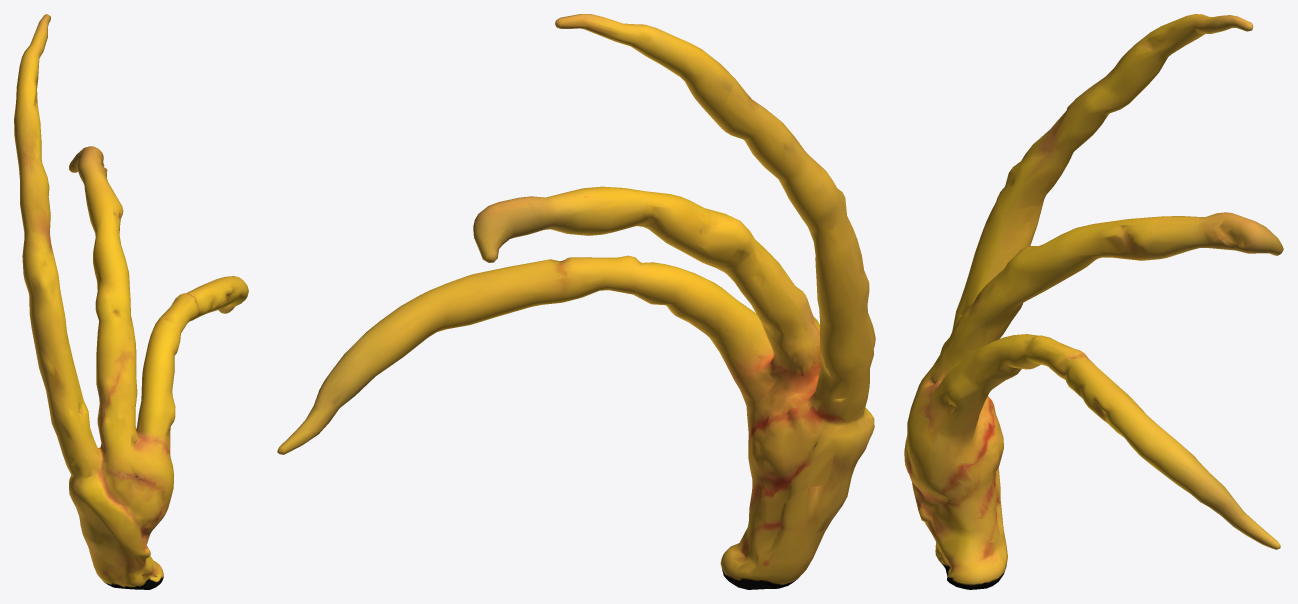
File: TheNoos_yellowHand.glb
3 renders of one model, left to right at view 1: azimuth 30°, elevation 25°; view 2: azimuth 150°, elevation 25°; view 3: azimuth 270°, elevation 25°, orthographic. The views are drawn at different scales.
Visible parts, largest first — view 1: Meshy_AI_Golden_Hand_of_the_Fo_0501082319_texture; view 2: Meshy_AI_Golden_Hand_of_the_Fo_0501082319_texture; view 3: Meshy_AI_Golden_Hand_of_the_Fo_0501082319_texture.
Part boxes in pixels (bbox=[...]): Meshy_AI_Golden_Hand_of_the_Fo_0501082319_texture: bbox=[14, 14, 248, 589]; Meshy_AI_Golden_Hand_of_the_Fo_0501082319_texture: bbox=[277, 14, 875, 589]; Meshy_AI_Golden_Hand_of_the_Fo_0501082319_texture: bbox=[904, 14, 1283, 589].
Bounding box in the file's own units: 1.24 × 1.9 × 1.13.
Materials: 1 (1 with a texture image).
